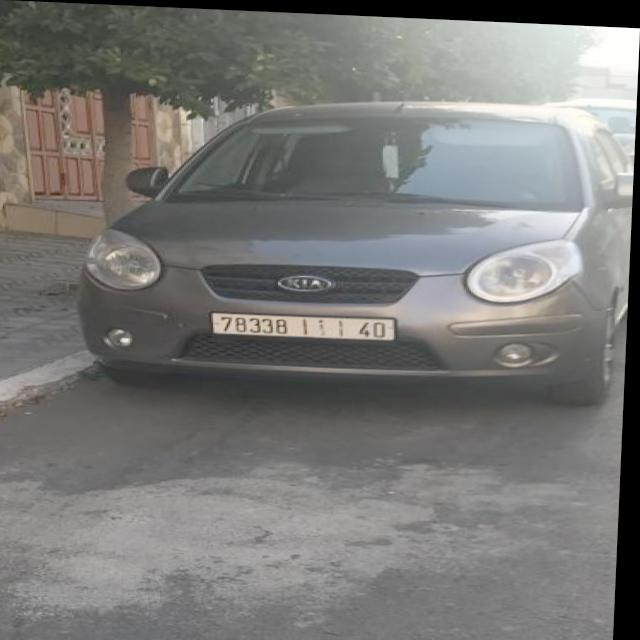License-Plate: (214, 312, 399, 337)
